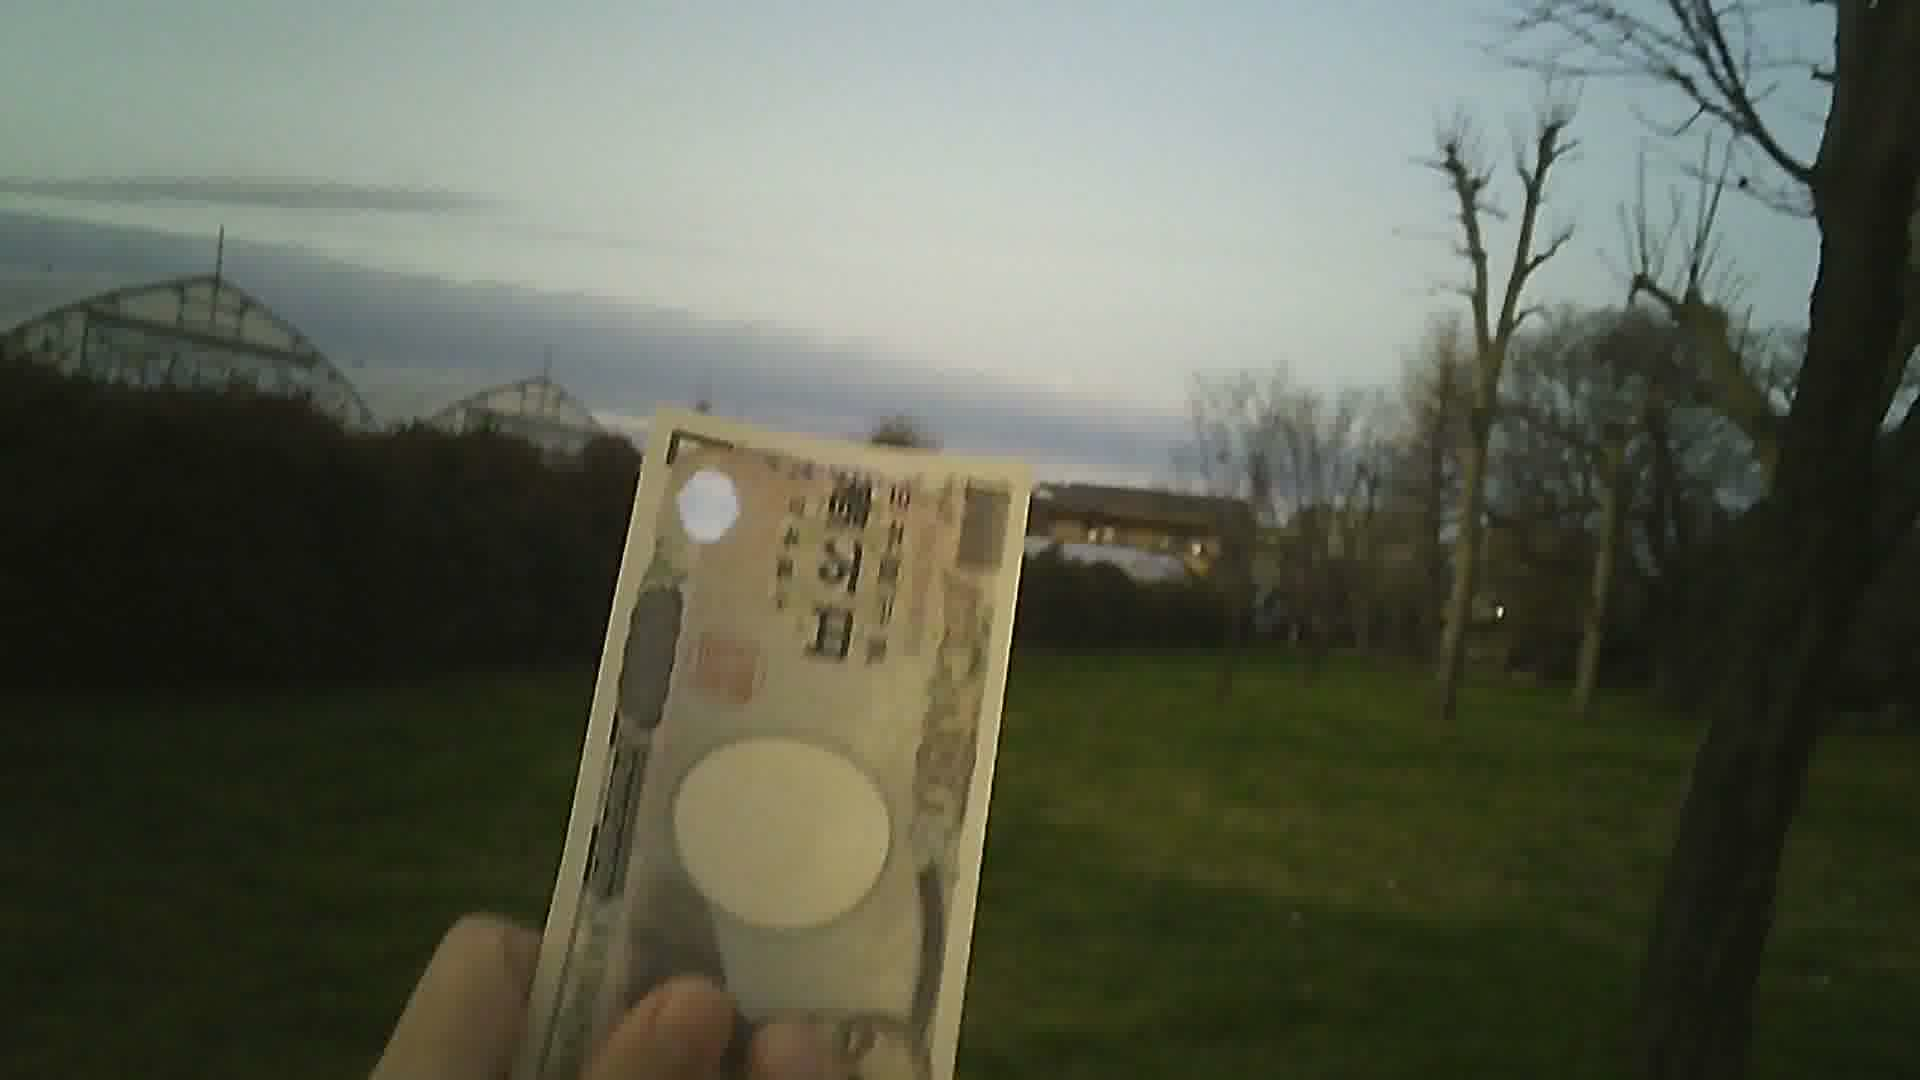10,000 Yen: (524, 398, 1026, 1069)
